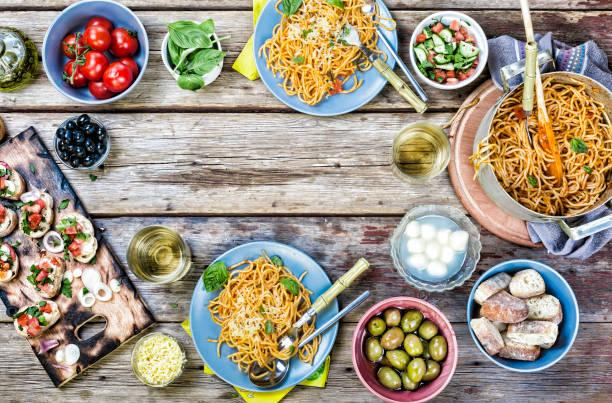Braised Crucian Carp: (1, 130, 159, 384), (187, 240, 336, 392), (468, 72, 609, 229), (252, 0, 393, 118)
